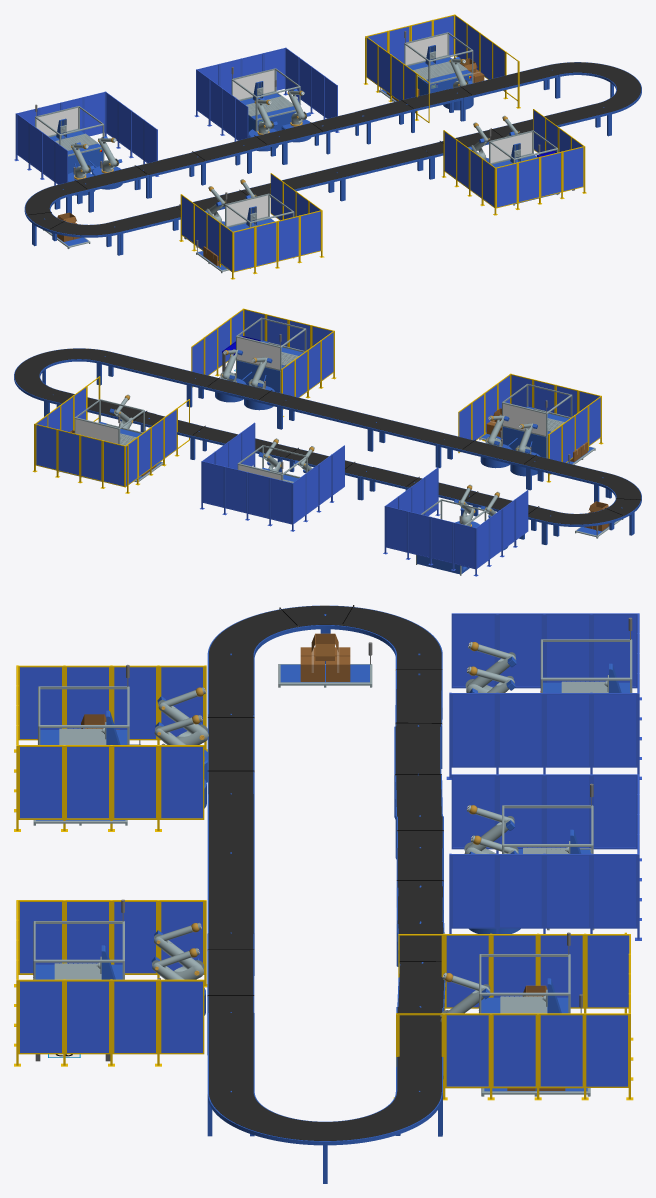
The model's file is hopefullyUpright.fbx.
The picture shows the model from 3 angles, top to bottom: view 1: azimuth 30°, elevation 25°; view 2: azimuth 150°, elevation 25°; view 3: azimuth 270°, elevation 25°; orthographic projection. The views are drawn at different scales.
Visible parts, largest first — view 1: deco, RC5, RC4, RC3, Conveyor8, Conveyor6, Conveyor12, RC2, RC1, Conveyor10, Conveyor, Conveyor15 (+14 smaller); view 2: deco, RC2, RC1, Conveyor8, Conveyor12, Conveyor14, Conveyor9, Conveyor, Conveyor11, RC5, Conveyor13, Conveyor15 (+14 smaller); view 3: deco, Conveyor8, Conveyor12, Conveyor9, Conveyor, Conveyor14, Conveyor6, Source, Conveyor10, Conveyor11, Conveyor13, Conveyor15 (+14 smaller).
Part boxes in pixels (x1=…): deco: x1=14, y1=14, x2=586, y2=279; RC5: x1=404, y1=32, x2=473, y2=95; RC4: x1=231, y1=68, x2=300, y2=132; RC3: x1=35, y1=106, x2=104, y2=173; Conveyor8: x1=546, y1=62, x2=641, y2=135; Conveyor6: x1=451, y1=65, x2=558, y2=121; Conveyor12: x1=331, y1=146, x2=432, y2=200; RC2: x1=225, y1=193, x2=294, y2=268; RC1: x1=489, y1=130, x2=558, y2=205; Conveyor10: x1=33, y1=216, x2=120, y2=255; Conveyor: x1=512, y1=103, x2=610, y2=136; Conveyor15: x1=109, y1=206, x2=186, y2=254; deco: x1=32, y1=308, x2=603, y2=576; RC2: x1=502, y1=384, x2=572, y2=458; RC1: x1=236, y1=317, x2=306, y2=392; Conveyor8: x1=14, y1=348, x2=111, y2=416; Conveyor12: x1=279, y1=396, x2=382, y2=451; Conveyor14: x1=438, y1=434, x2=540, y2=489; Conveyor9: x1=189, y1=374, x2=291, y2=428; Conveyor: x1=99, y1=352, x2=200, y2=406; Conveyor11: x1=544, y1=505, x2=633, y2=544; RC5: x1=74, y1=399, x2=144, y2=445; Conveyor13: x1=370, y1=418, x2=449, y2=467; Conveyor15: x1=528, y1=457, x2=608, y2=502; deco: x1=14, y1=613, x2=641, y2=1100; Conveyor8: x1=207, y1=1091, x2=442, y2=1183; Conveyor12: x1=207, y1=853, x2=254, y2=975; Conveyor9: x1=207, y1=933, x2=254, y2=1054; Conveyor: x1=207, y1=1012, x2=254, y2=1092; Conveyor14: x1=207, y1=714, x2=254, y2=794; Conveyor6: x1=396, y1=1007, x2=443, y2=1091; Source: x1=278, y1=633, x2=372, y2=687; Conveyor10: x1=207, y1=605, x2=325, y2=663; Conveyor11: x1=325, y1=605, x2=442, y2=663; Conveyor13: x1=207, y1=794, x2=254, y2=853; Conveyor15: x1=207, y1=655, x2=254, y2=714.
Bounding box in the file's own units: 1062 × 98.85 × 526.
